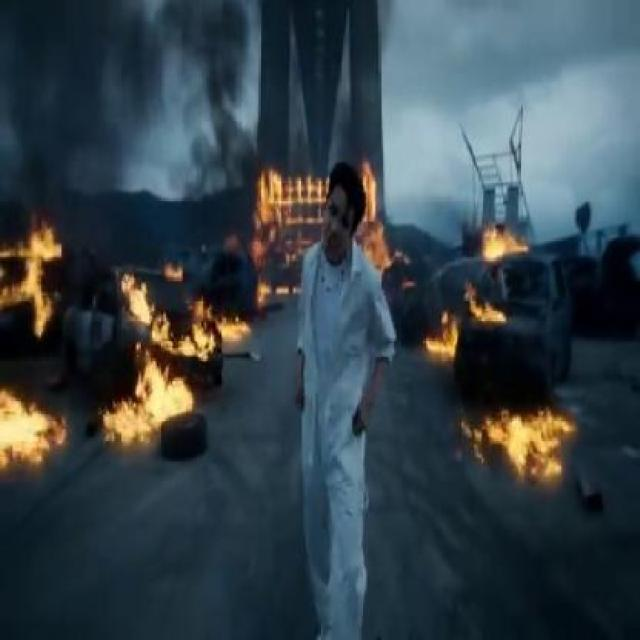fire: (484, 400, 590, 488), (254, 154, 314, 306), (118, 283, 212, 354), (116, 354, 187, 438), (14, 209, 56, 340), (1, 378, 57, 460), (364, 159, 394, 267), (480, 230, 529, 264)
smoke: (1, 2, 161, 235), (253, 1, 395, 154), (164, 1, 250, 234), (394, 153, 480, 250)
